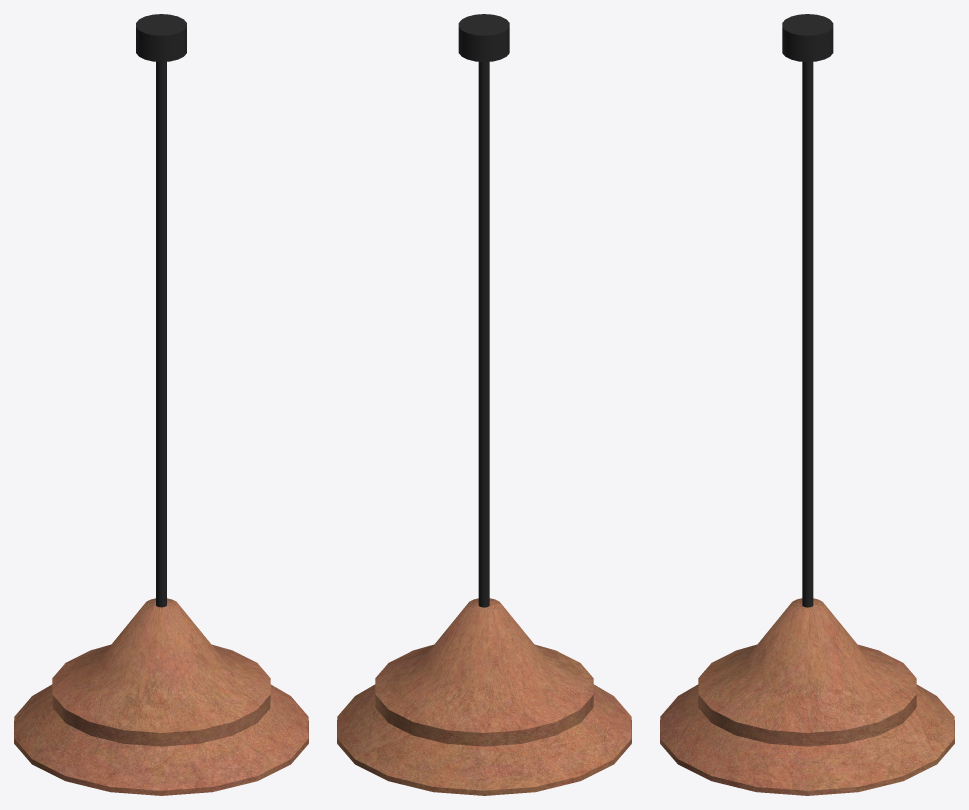
Rendered from Ceiling Lamp 7.FBX.
3 views of the same model, side by side, from view 1: azimuth 30°, elevation 25°; view 2: azimuth 150°, elevation 25°; view 3: azimuth 270°, elevation 25° (orthographic).
Visible parts, largest first — view 1: ceiling lamp 7; view 2: ceiling lamp 7; view 3: ceiling lamp 7.
Part boxes in pixels (bbox=[...]): ceiling lamp 7: bbox=[14, 14, 308, 795]; ceiling lamp 7: bbox=[337, 14, 631, 795]; ceiling lamp 7: bbox=[660, 14, 954, 795].
Size of the model in its own units: 31.01 by 86.63 by 30.54.
3 materials, 2 textured.
